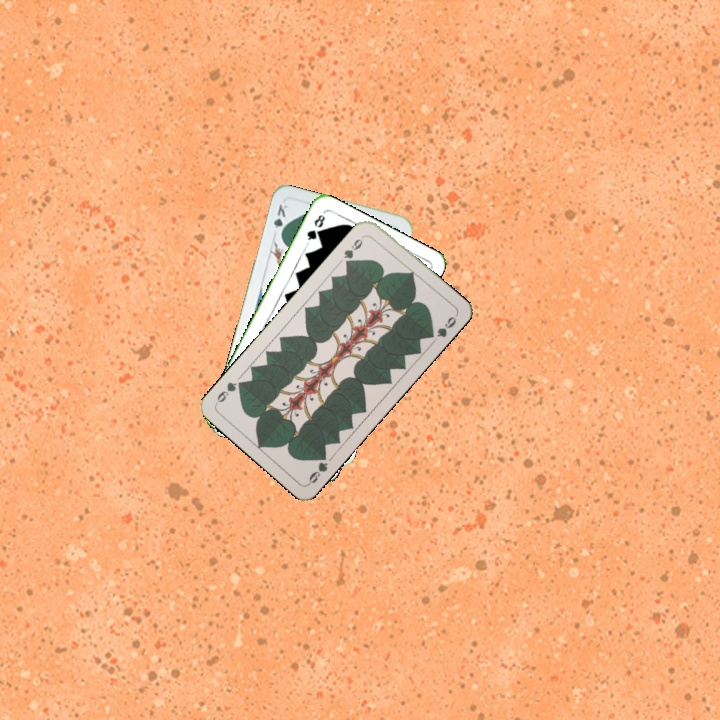G8: (303, 211, 328, 247)
G9: (339, 231, 368, 268), (304, 449, 330, 487)
GK: (269, 199, 290, 240)
